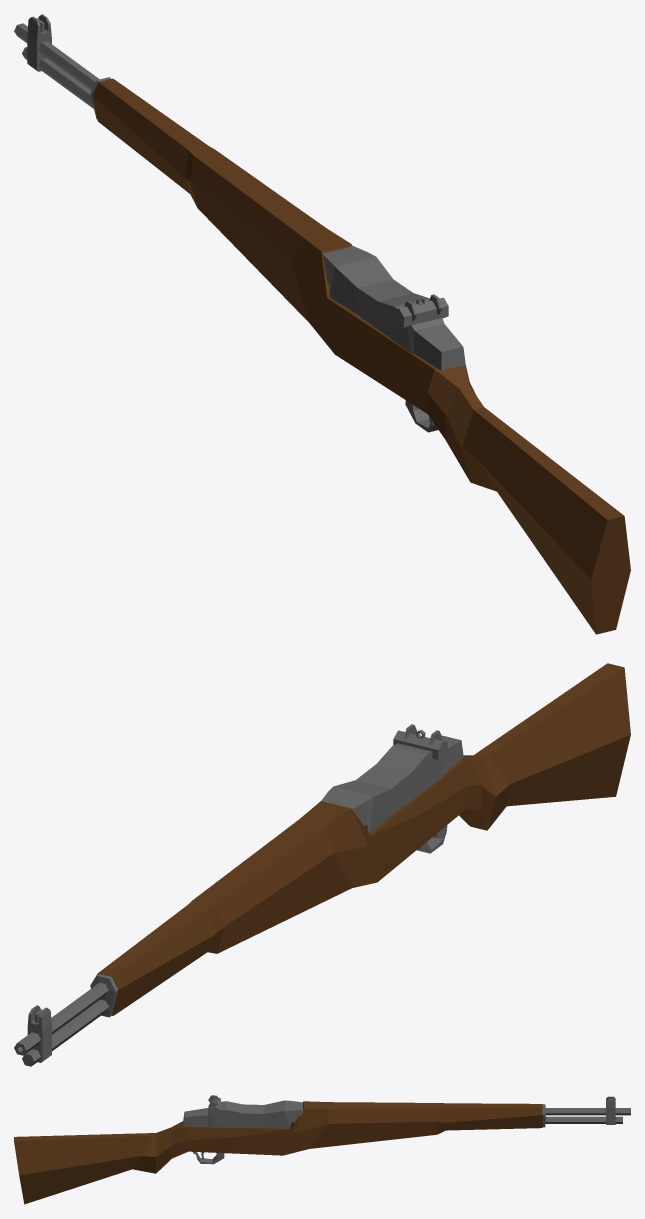
The model's file is m1_garand.glb.
3 renders of one model, top to bottom at view 1: azimuth 30°, elevation 25°; view 2: azimuth 150°, elevation 25°; view 3: azimuth 270°, elevation 25°, orthographic. The views are drawn at different scales.
Parts seen in each view (by area): view 1: gun_body, chamber, barrel, aim, lower_barrel; view 2: gun_body, chamber, barrel, lower_barrel, aim; view 3: gun_body, chamber, barrel, lower_barrel, aim, Cube.
Part boxes in pixels (box(x1,y1,x2,y2)): gun_body: box(92, 78, 630, 634); chamber: box(322, 246, 465, 370); barrel: box(14, 23, 111, 118); aim: box(27, 14, 51, 71); lower_barrel: box(22, 47, 93, 108); gun_body: box(93, 663, 630, 1015); chamber: box(321, 724, 463, 833); barrel: box(14, 973, 118, 1055); lower_barrel: box(22, 999, 108, 1066); aim: box(27, 1005, 51, 1062); gun_body: box(14, 1101, 542, 1204); chamber: box(183, 1095, 303, 1128); barrel: box(542, 1104, 630, 1127); lower_barrel: box(545, 1116, 622, 1123); aim: box(606, 1096, 615, 1124); Cube: box(193, 1152, 224, 1164).
Bounding box in the file's own units: 0.0473 × 0.2022 × 1.09.
